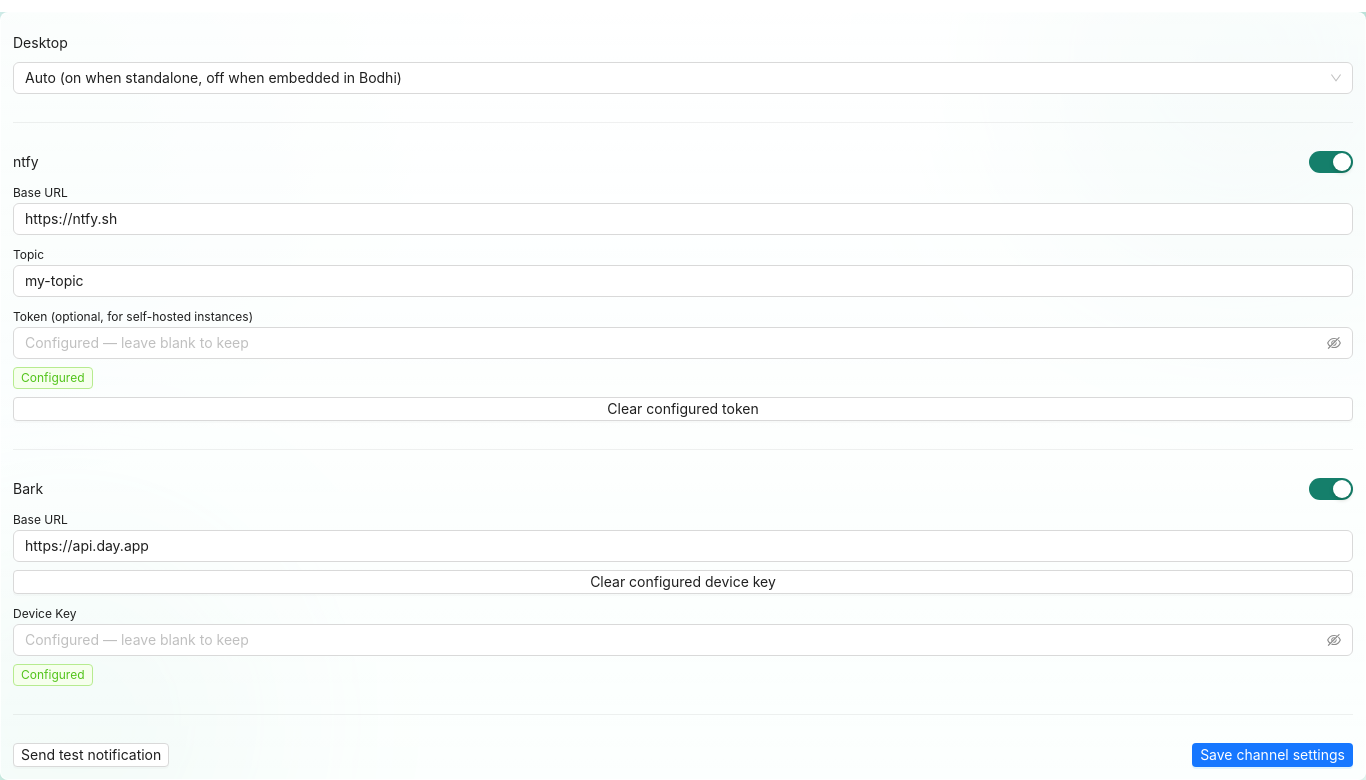
Test case: NotificationChannelsSection › shows an error message when the test send fails
(page scrolled)
Expected: the password field with test id "channel-ntfy-token" is shown, [25,332,1323,354]
Click the button with test id "channel-test-button": click(91, 755) [13,743,169,767]
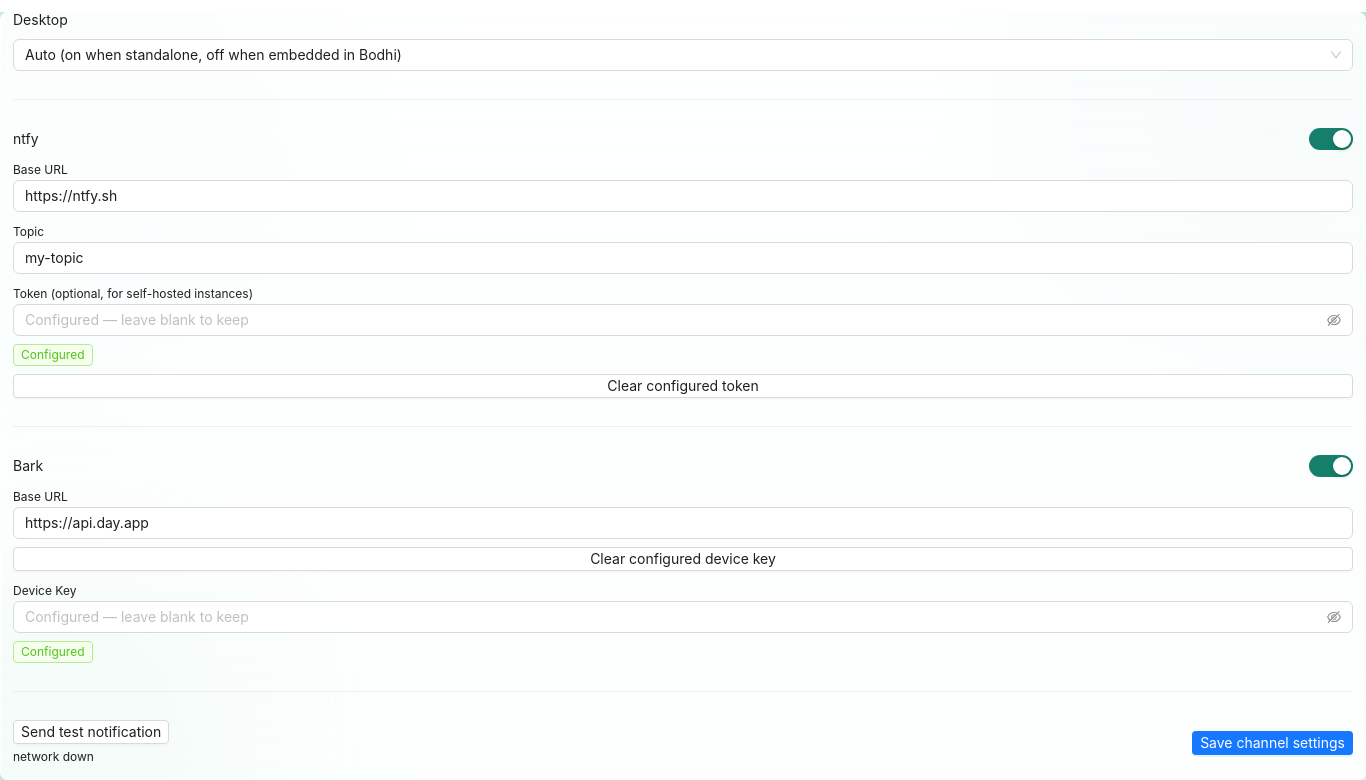
Result: the text "network down" is shown at [13,749,94,764]
